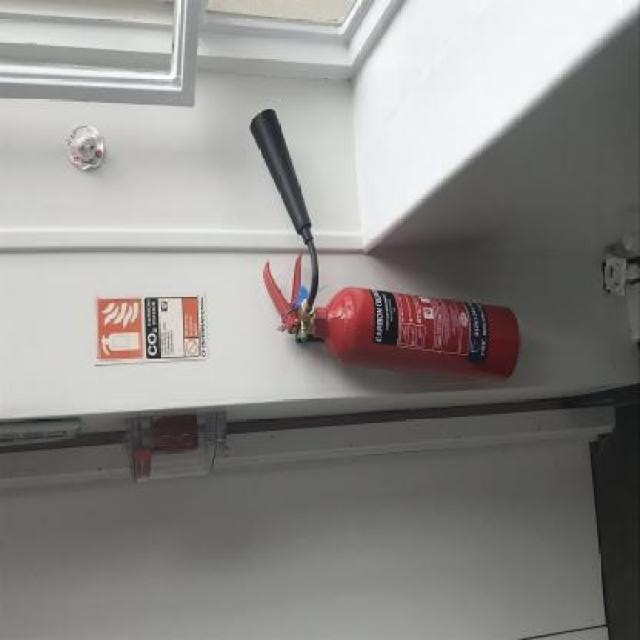fire extinguisher: (250, 108, 518, 380)
